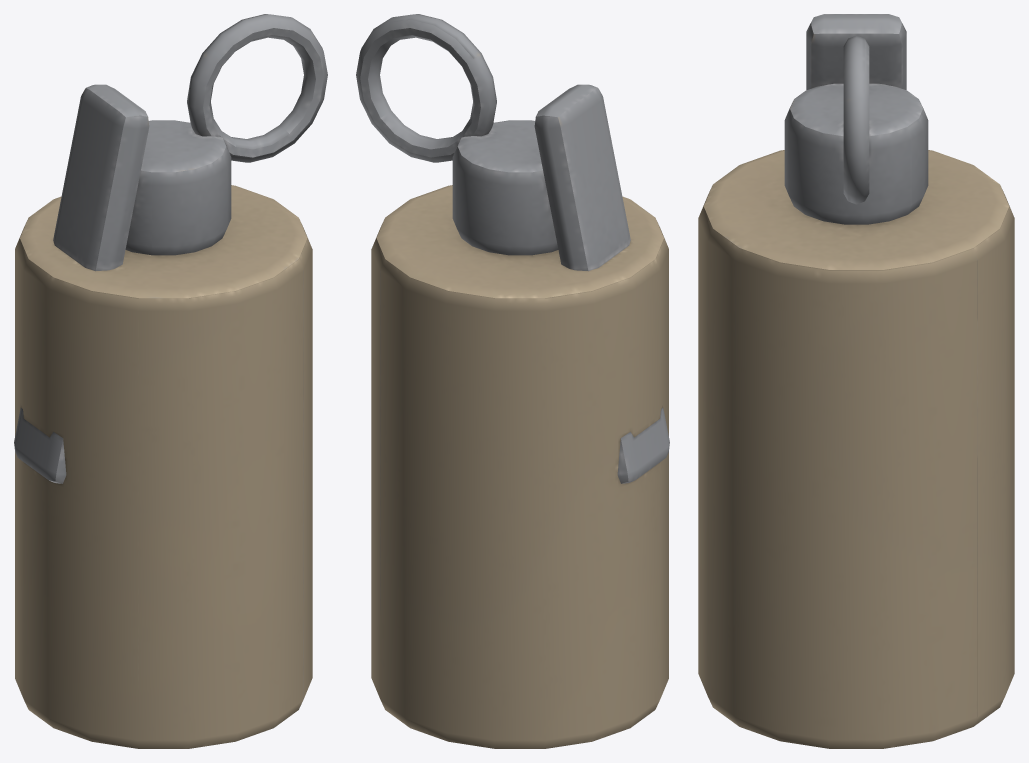
File: decoy.fbx
3 renders of one model, left to right at view 1: azimuth 30°, elevation 25°; view 2: azimuth 150°, elevation 25°; view 3: azimuth 270°, elevation 25°, orthographic. The views are drawn at different scales.
Visible parts, largest first — view 1: decoy; view 2: decoy; view 3: decoy.
Part boxes in pixels (<box>): decoy: <box>14,14,327,748</box>; decoy: <box>356,14,669,748</box>; decoy: <box>698,14,1014,748</box>.
Bounding box in the file's own units: 0.0505 × 0.1066 × 0.044.
